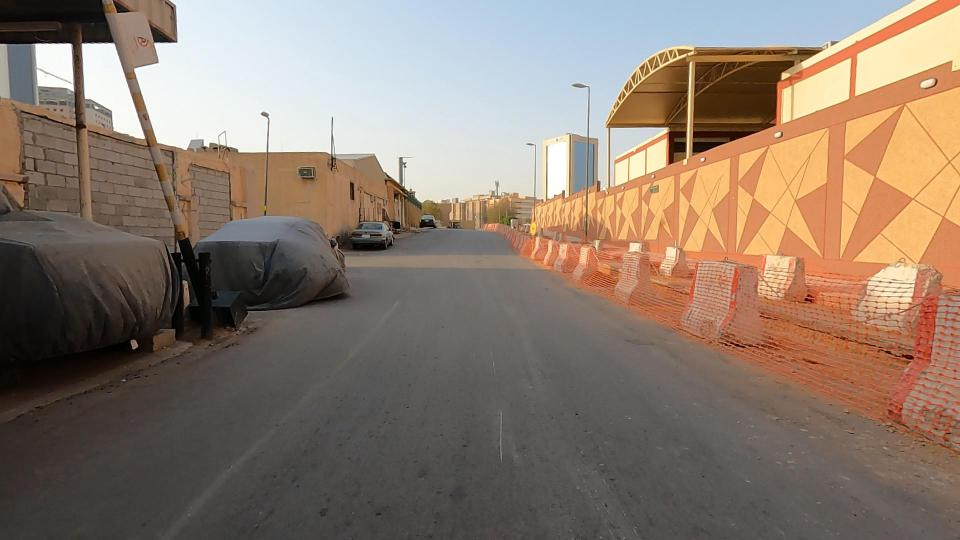CONSTRUCTION_ROAD: (578, 176, 960, 492), (470, 195, 753, 347)
